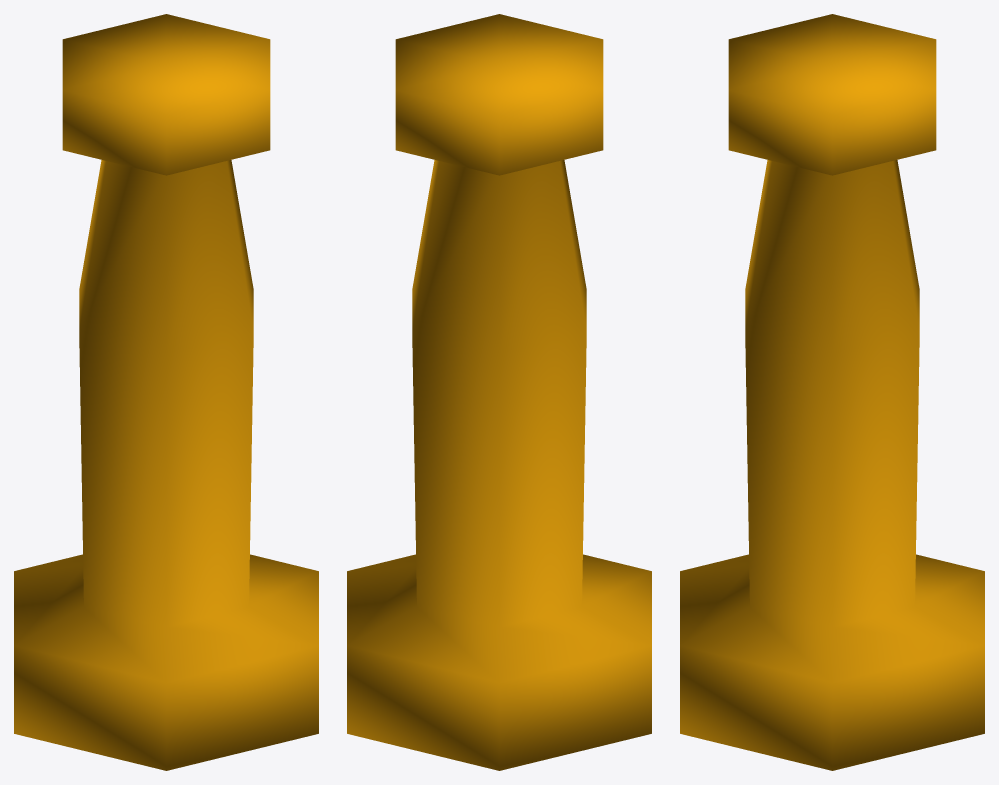
The model's file is Baluster_01.fbx.
The picture shows the model from 3 angles, left to right: view 1: azimuth 30°, elevation 25°; view 2: azimuth 150°, elevation 25°; view 3: azimuth 270°, elevation 25°; orthographic projection.
Visible parts, largest first — view 1: Baluster_01; view 2: Baluster_01; view 3: Baluster_01.
Boxes of the visible parts, x1,y1,x2,y2 form: Baluster_01: (14,14,318,770); Baluster_01: (347,14,651,770); Baluster_01: (680,14,984,770).
Size of the model in its own units: 23.01 by 45.6 by 19.93.
